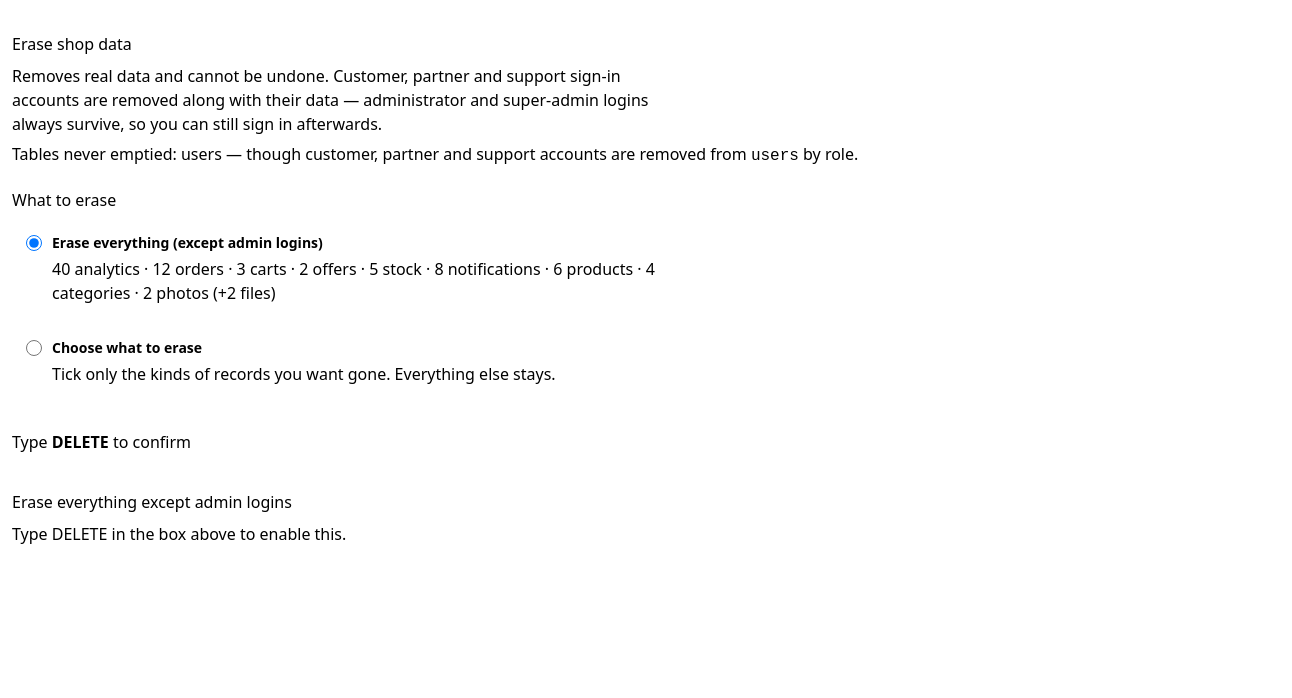
Test: DataResetPanel — choose what to erase (#71) › shows the cascade next to the row and ticks what the server would erase anyway
Check: the heading "Erase shop data" is shown, box [12,33,132,55]
Click the radio button labelled "Choose what to erase".
click(34, 348)  # box [26,340,42,356]
(page scrolled)
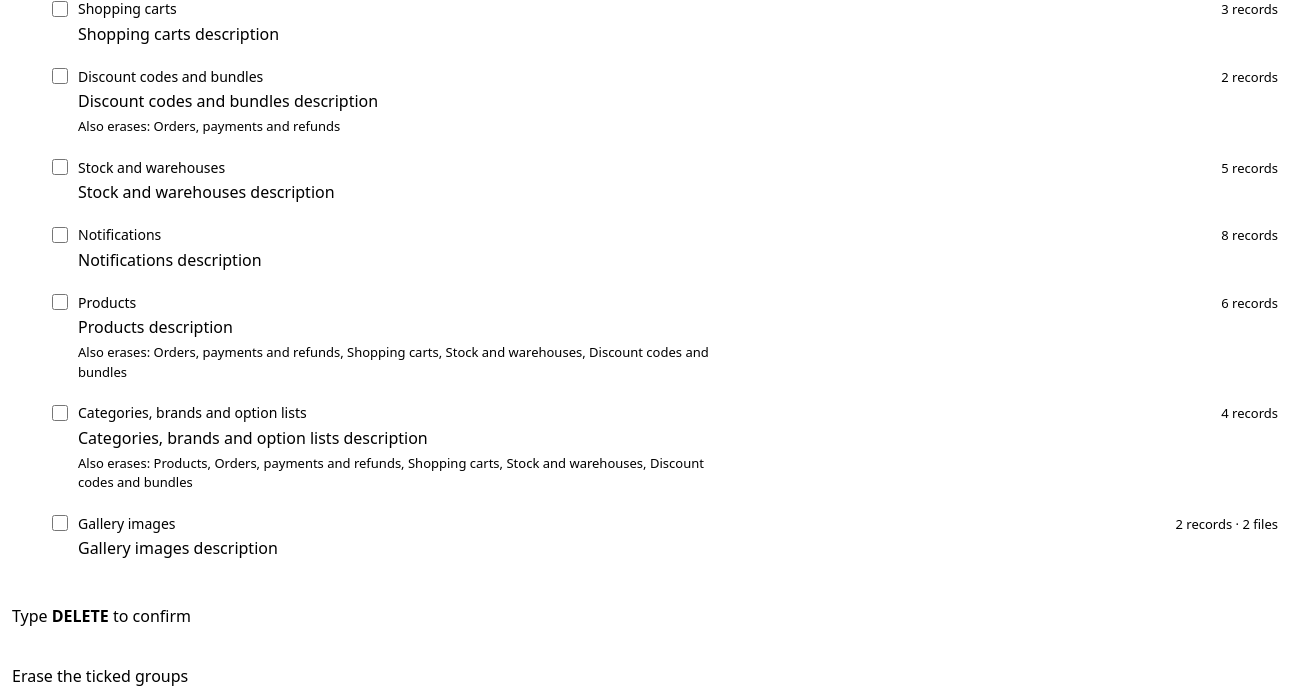
Check: the list item with test id "reset-group-products" shows "Also erases: Orders, payments and refunds, Shopping carts, Stock and warehouses, Discount codes and bundles", box [52,282,1278,392]
Click the checkbox labelled "Categories, brands and option lists 4 records".
click(60, 413)  # box [52,405,68,421]
(page scrolled)
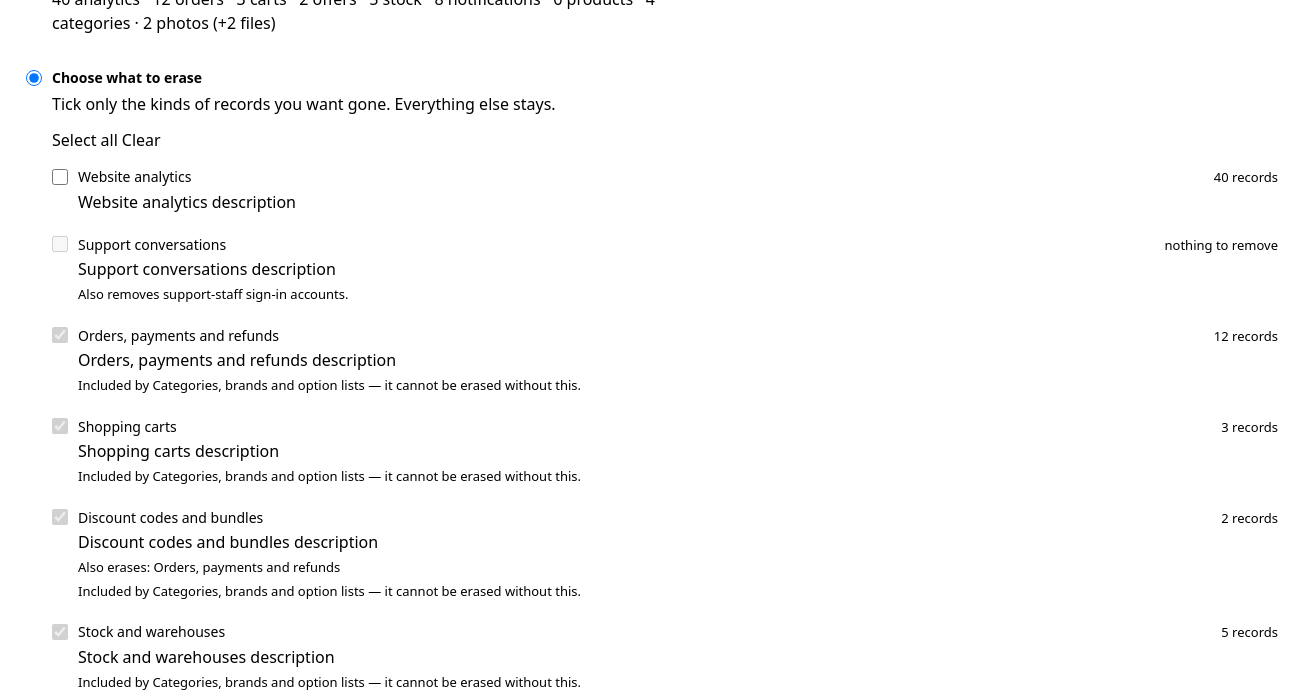
Check: the checkbox labelled "Orders, payments and refunds 12 records" is checked, box [52,327,68,343]
Check: the checkbox labelled "Orders, payments and refunds 12 records" is disabled, box [52,327,68,343]
Check: the checkbox labelled "Shopping carts 3 records" is checked, box [52,418,68,434]
